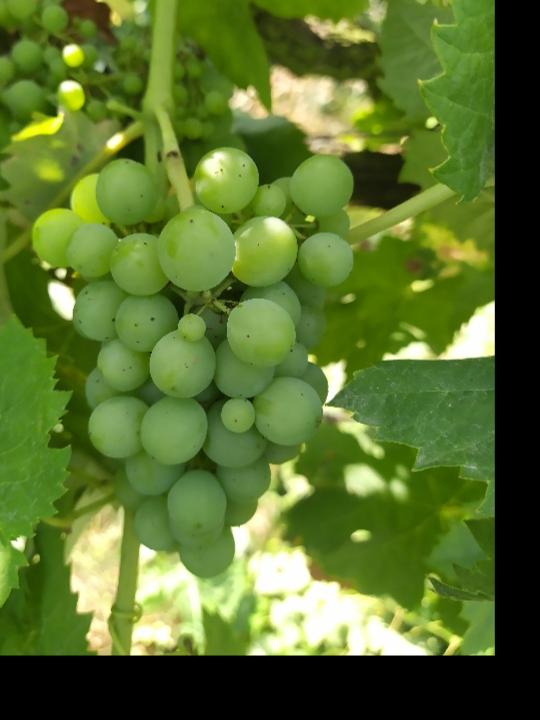grape: (29, 146, 356, 582)
